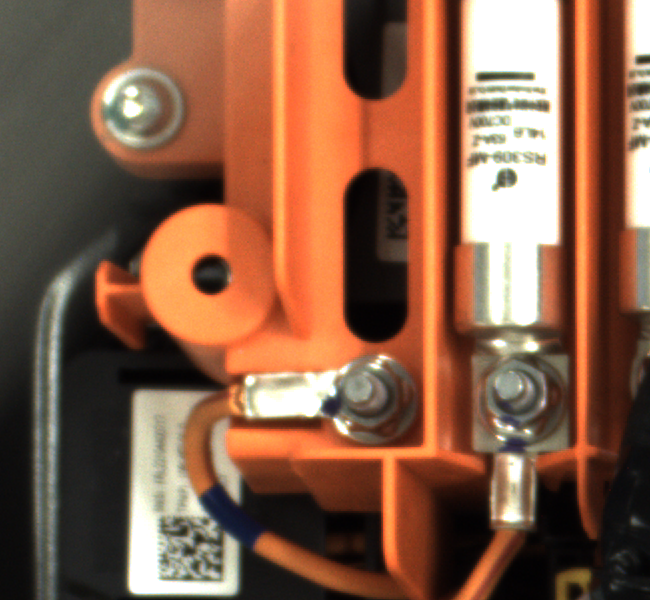screw_m: (94, 68, 195, 151)
screw_s: (326, 360, 422, 438), (477, 355, 562, 435)
